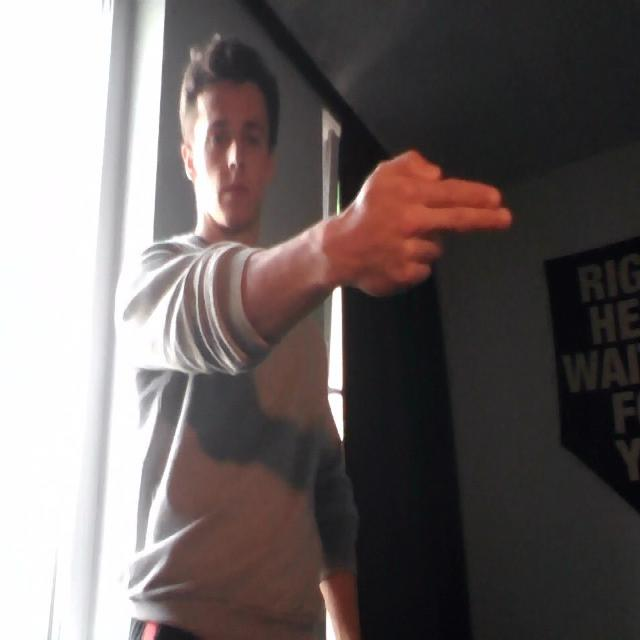right: (320, 136, 515, 315)
